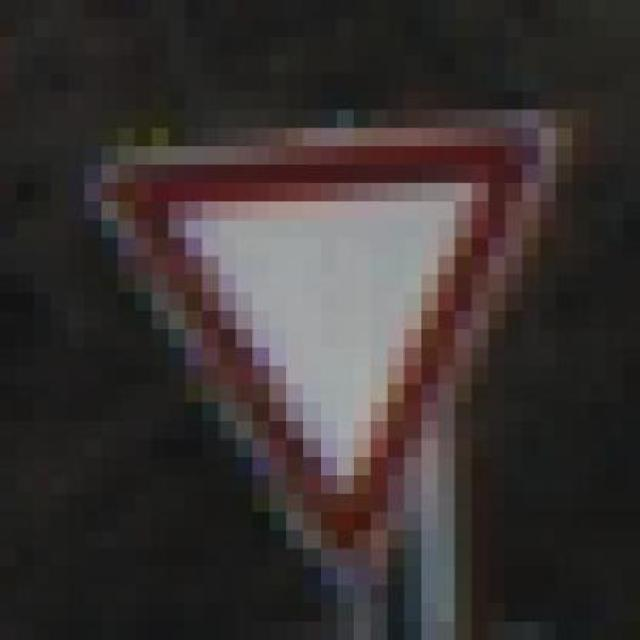Give Way: (32, 71, 605, 583)
